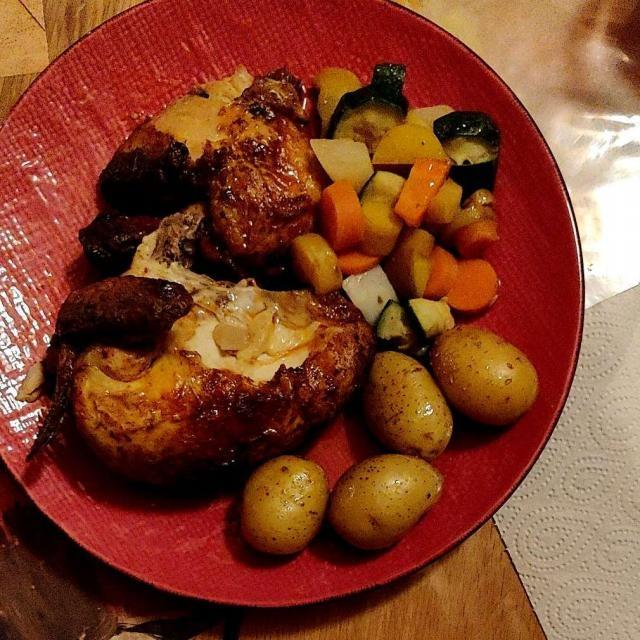mixed-vegetables: (292, 65, 503, 351)
potatoes: (248, 328, 542, 560)
